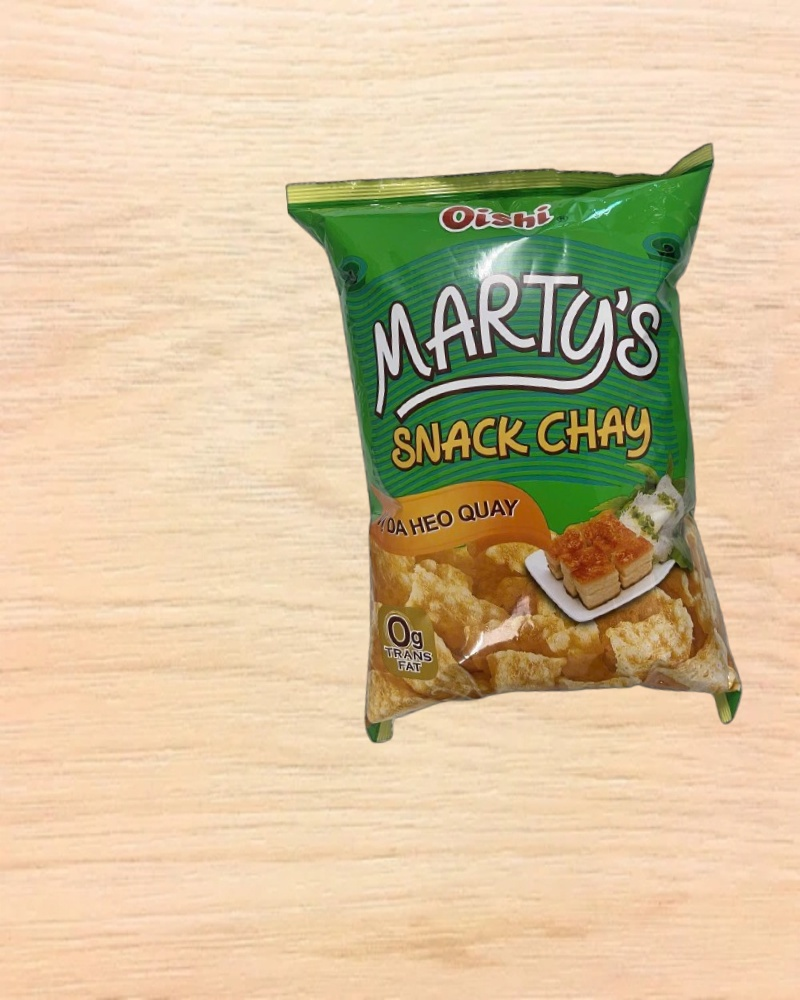Snack chay: (286, 143, 764, 759)
